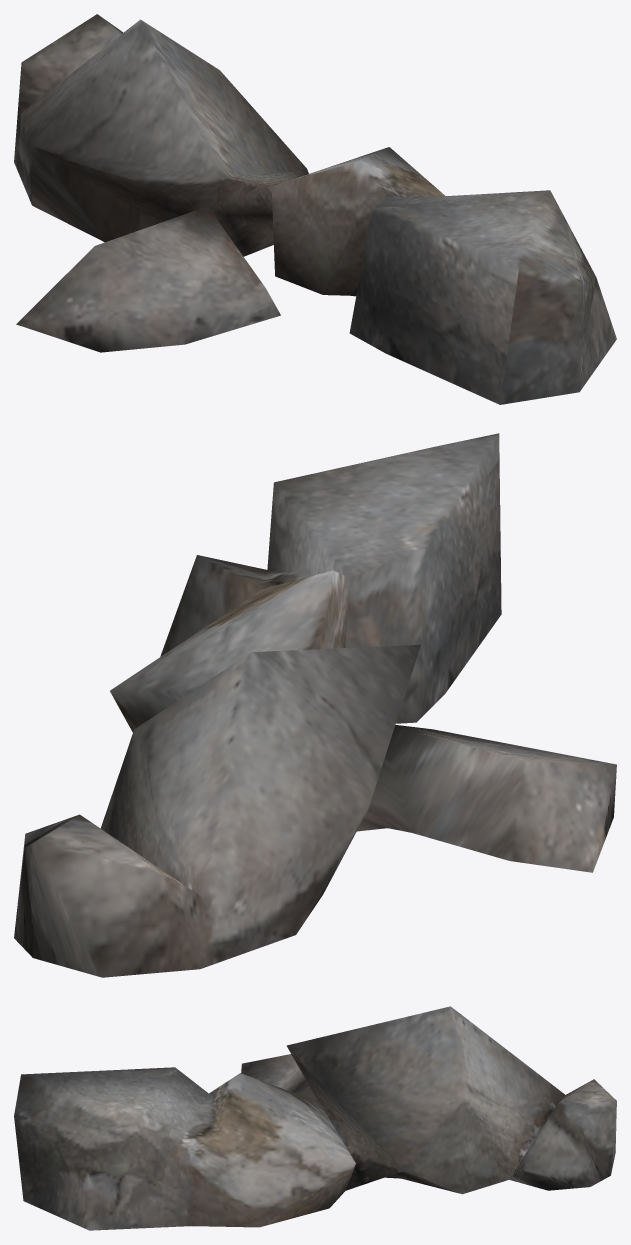
Rendered from forest_rock_06.glb.
3 renders of one model, top to bottom at view 1: azimuth 30°, elevation 25°; view 2: azimuth 150°, elevation 25°; view 3: azimuth 270°, elevation 25°, orthographic. The views are drawn at different scales.
Visible parts, largest first — view 1: Rocks.005_Rocks_0; view 2: Rocks.005_Rocks_0; view 3: Rocks.005_Rocks_0.
Boxes of the visible parts, x1,y1,x2,y2 form: Rocks.005_Rocks_0: (14,14,616,404); Rocks.005_Rocks_0: (14,433,616,977); Rocks.005_Rocks_0: (14,1006,616,1230).
Bounding box in the file's own units: 1.35 × 0.6 × 2.21.
1 material, 1 textured.
